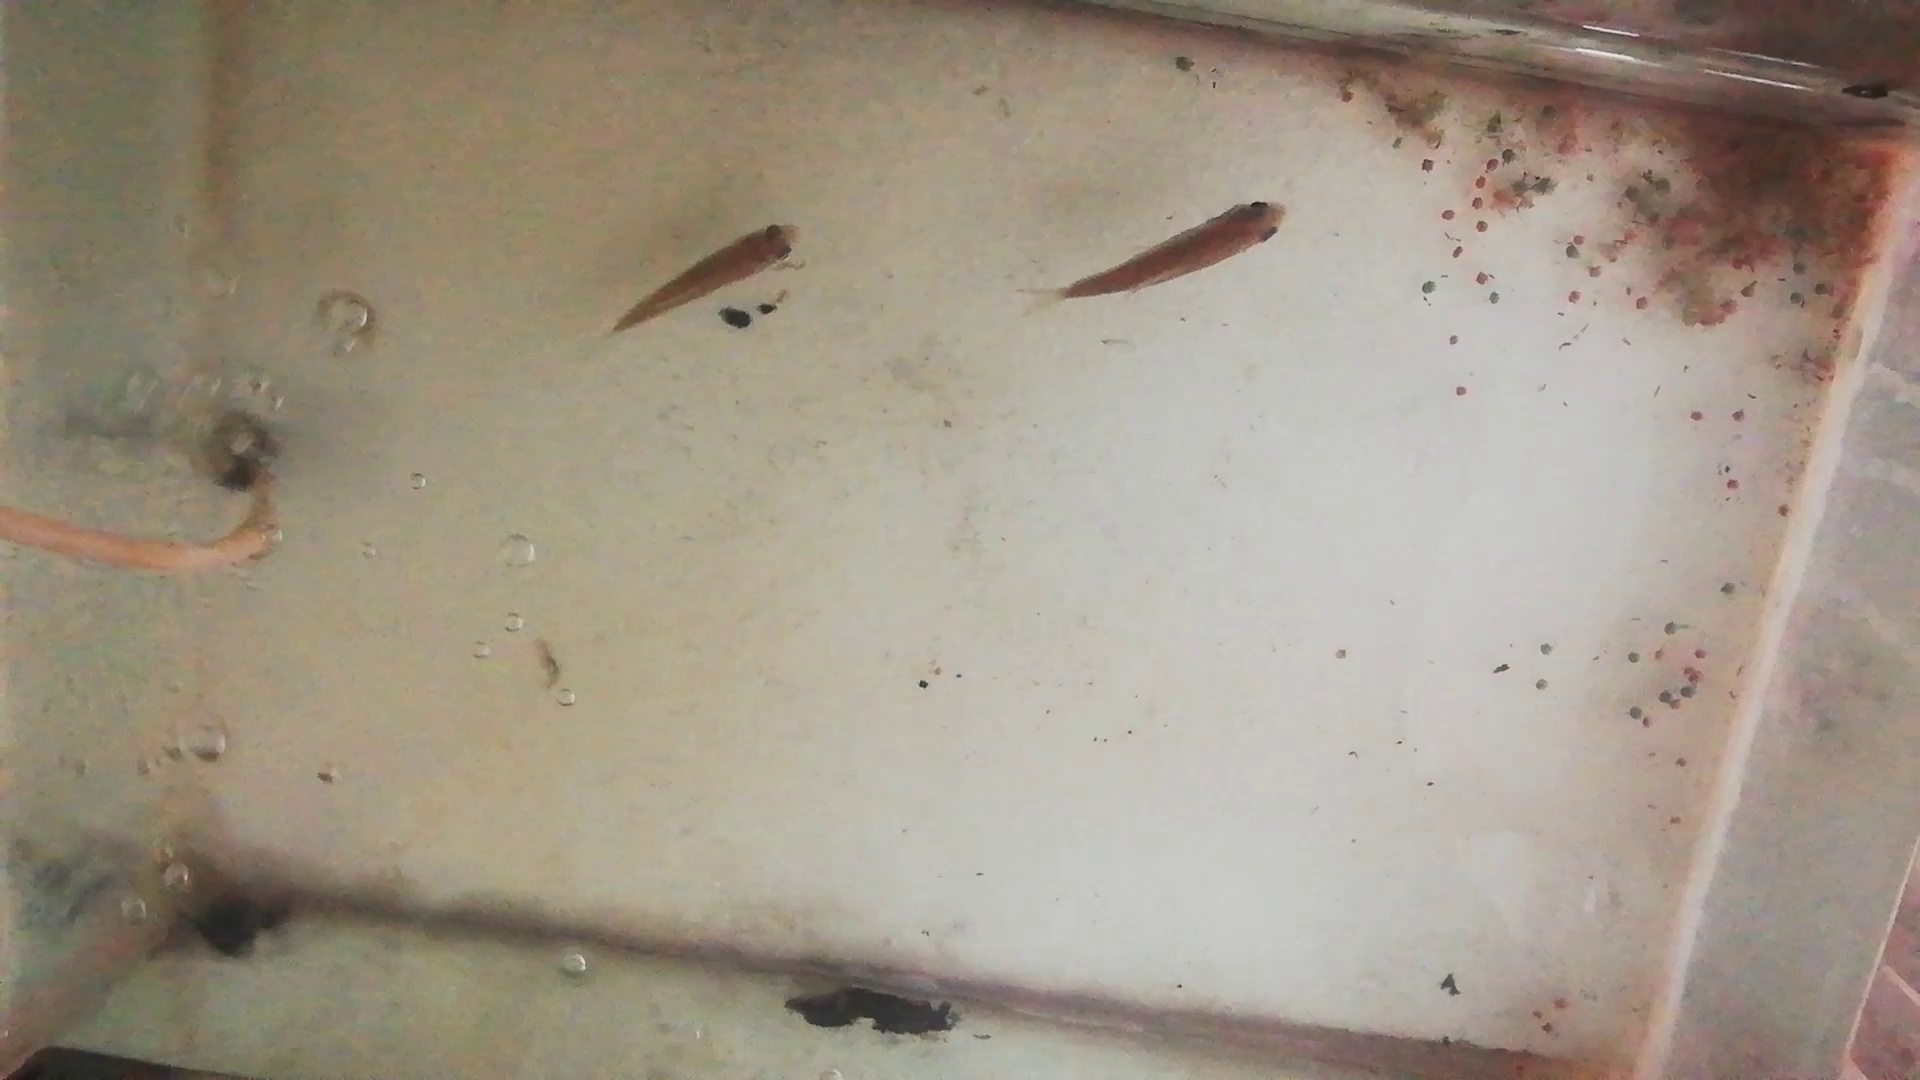fish: (1064, 195, 1290, 299), (611, 223, 802, 332)
